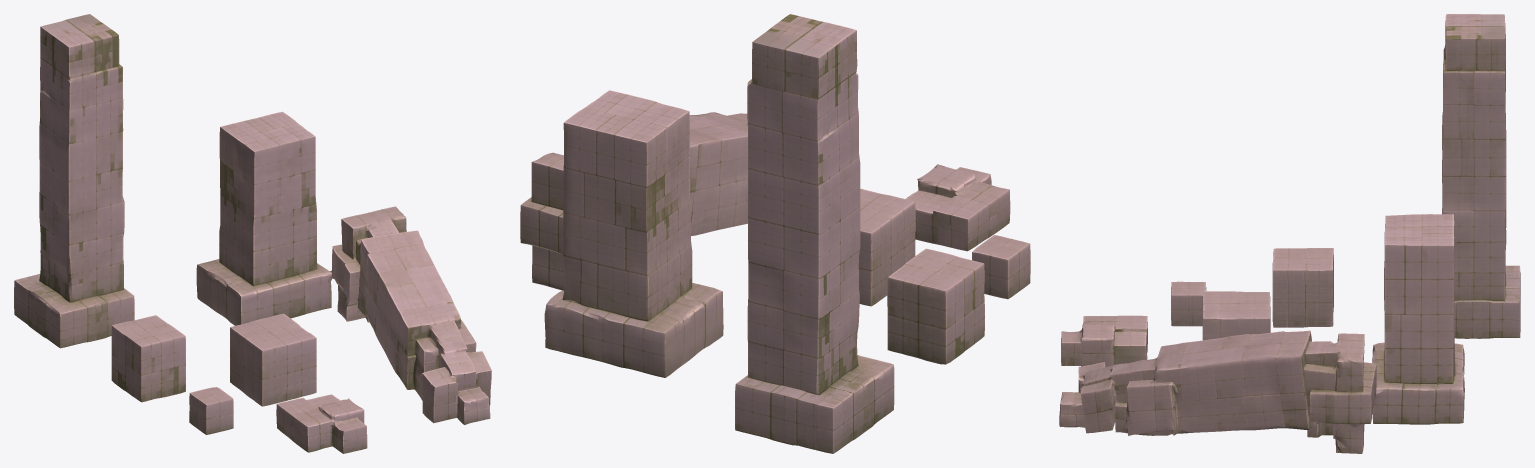
File: pillars.glb
The picture shows the model from 3 angles, left to right: view 1: azimuth 30°, elevation 25°; view 2: azimuth 150°, elevation 25°; view 3: azimuth 270°, elevation 25°; orthographic projection. The views are drawn at different scales.
Size of the model in its own units: 1.51 by 1.36 by 1.9.
1 material, 1 textured.
